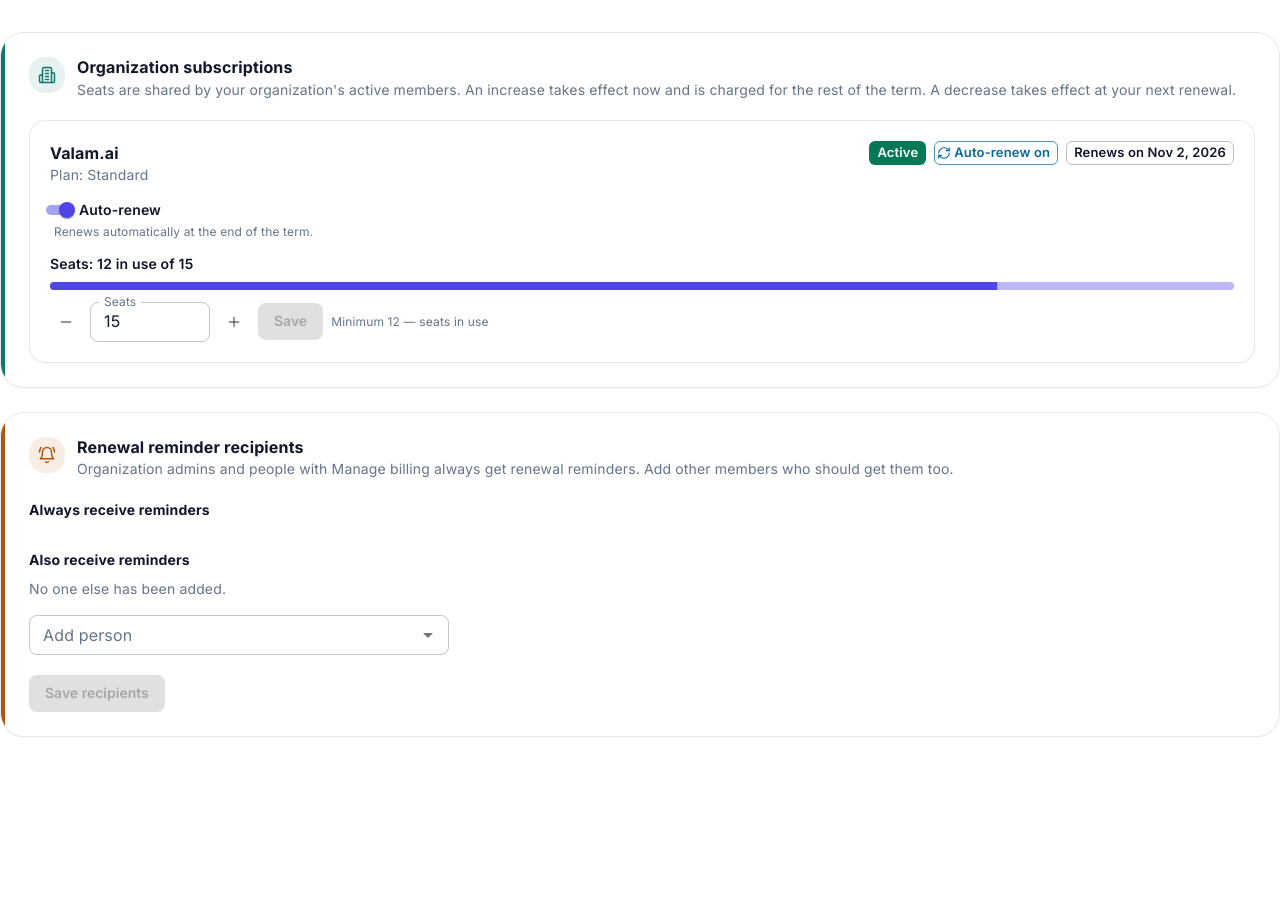
Test: OrganizationSubscriptionsSection › schedules a decrease for the next renewal with no estimate charge
Expected: the text "Seats: 12 in use of 15" is shown, [50,254,193,272]
Step 1. Click the button named "Remove a seat" → [66, 322], box [50,306,82,338]
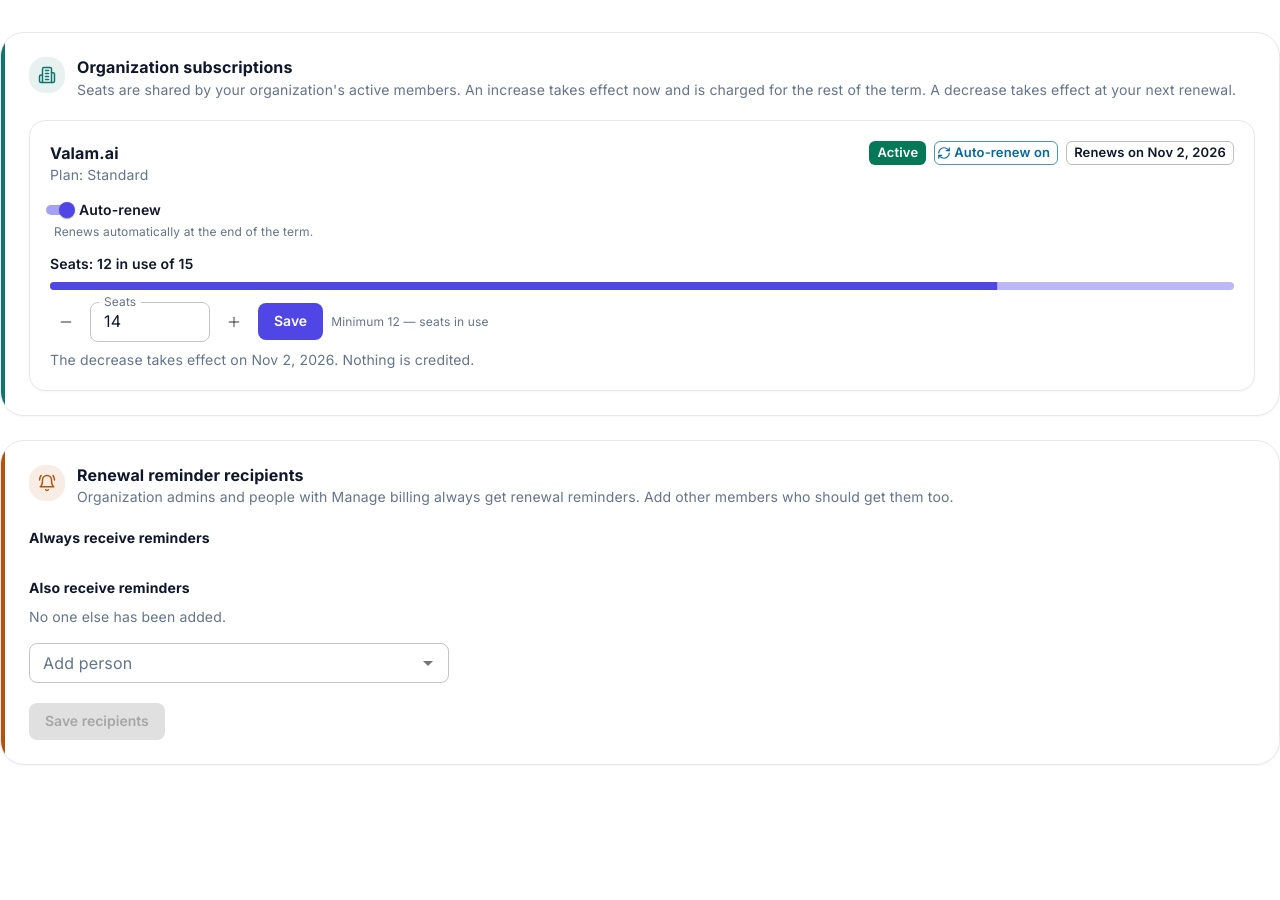
Step 2. Click the button named "Remove a seat" → [66, 322], box [50,306,82,338]
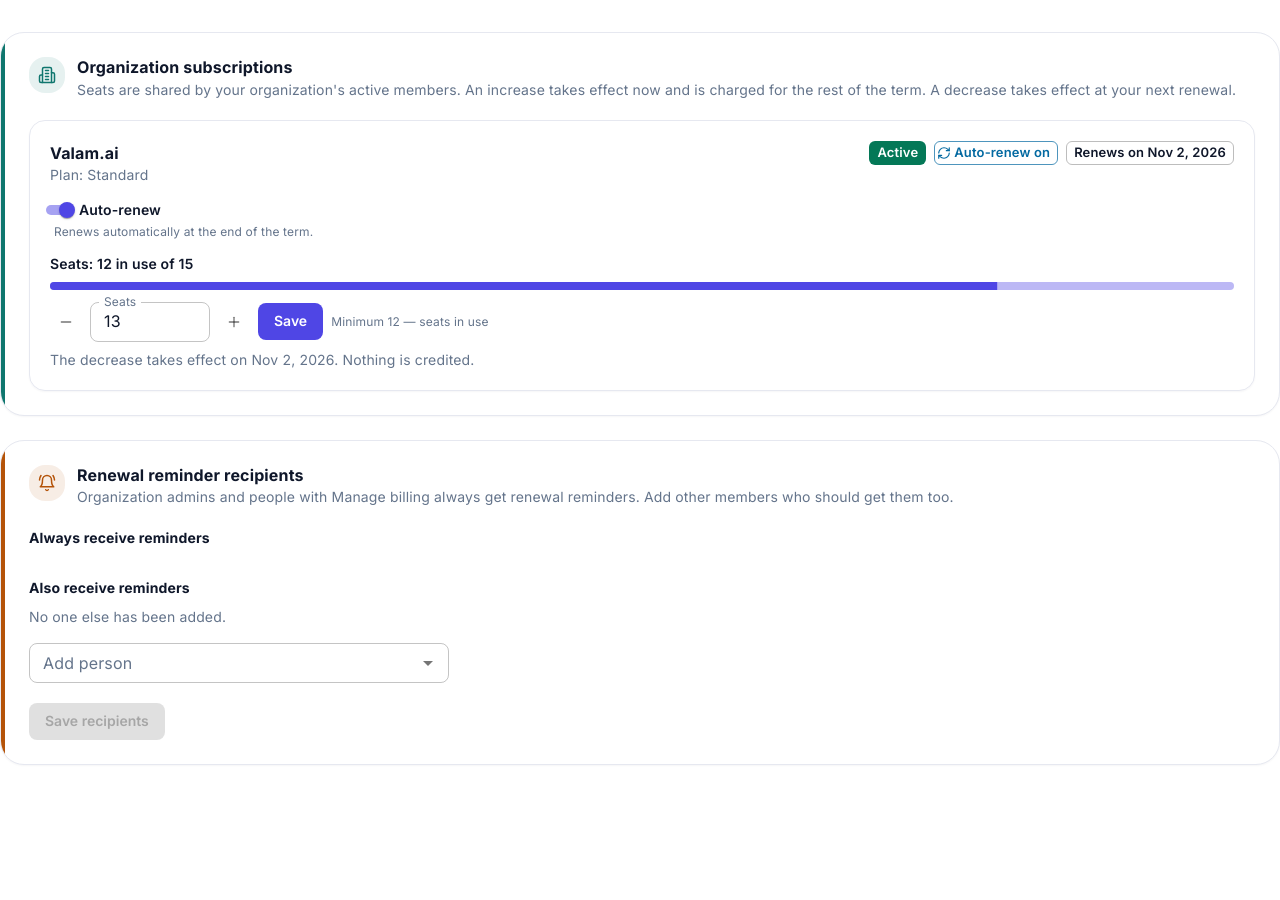
Step 3. Click the button "Save" → [291, 322], box [258,303,323,340]
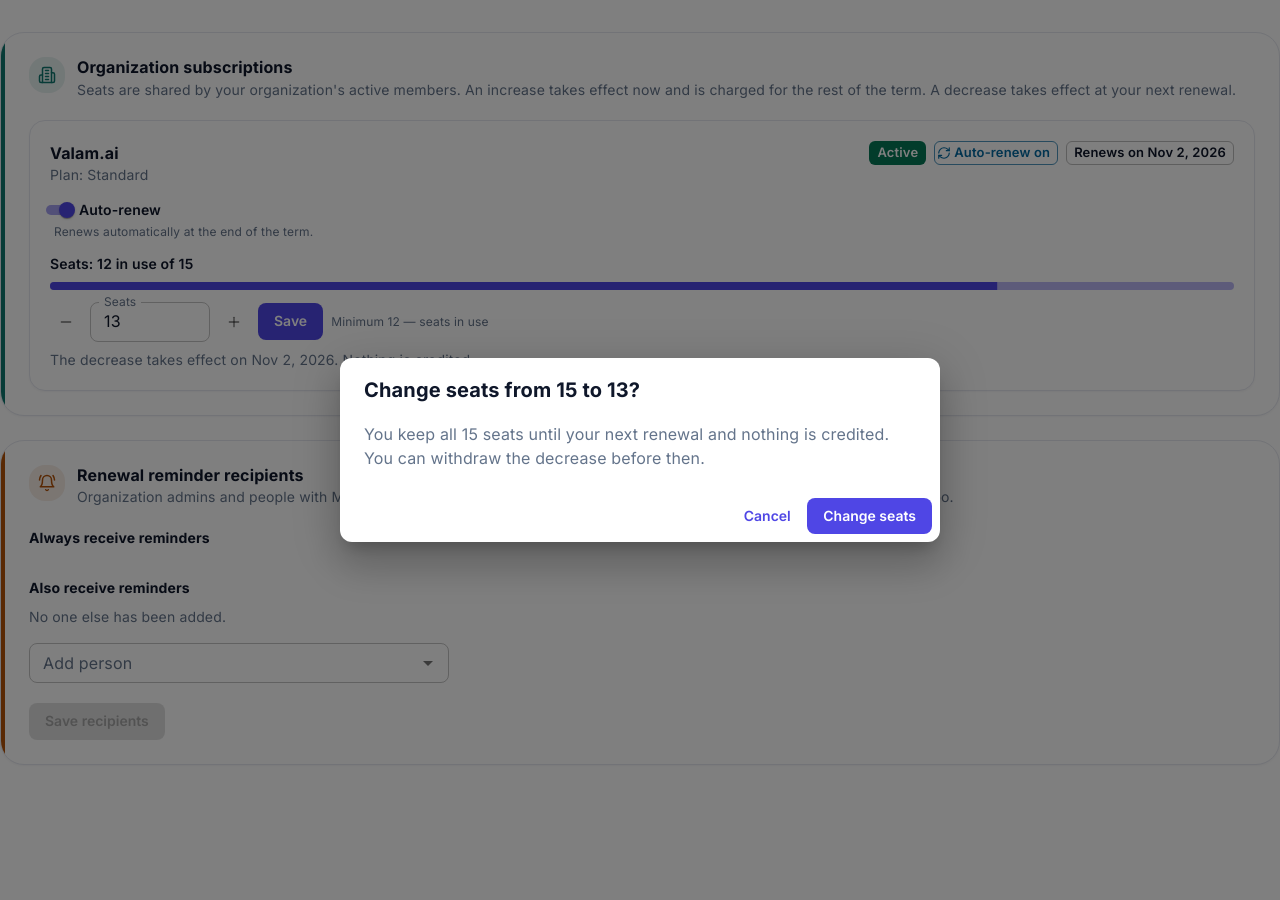
Result: the text "You keep all 15 seats until your next renewal" is shown at [364,424,889,468]
Step 4. Click the button "Change seats" → [870, 516], box [807,498,932,534]
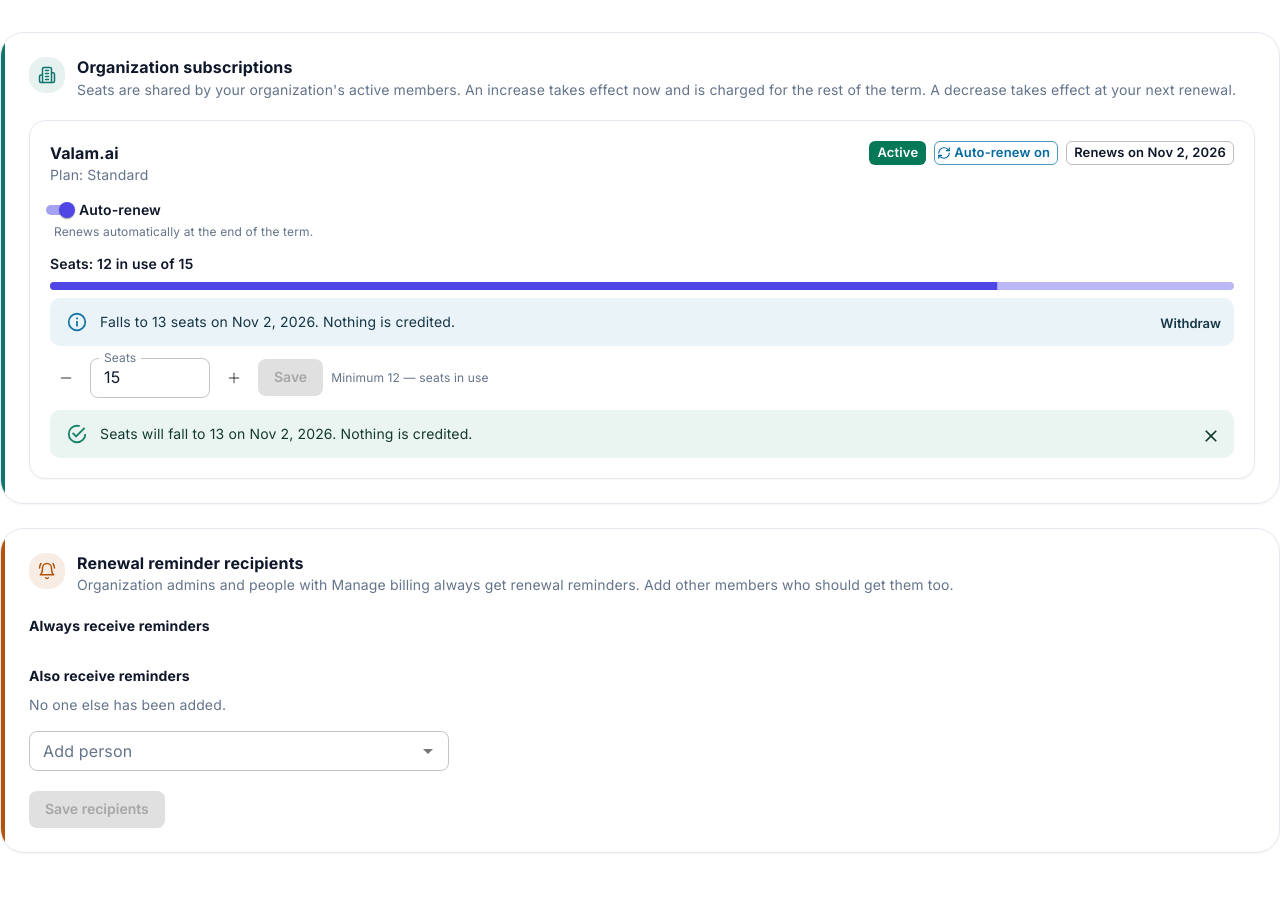
Result: the text "Seats will fall to 13 on Nov 2, 2026. Nothing is credited." is shown at [100,424,472,442]
Result: the text "Falls to 13 seats on Nov 2, 2026. Nothing is credited." is shown at [100,312,455,330]
